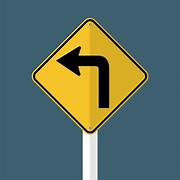left: (32, 18, 149, 133)
